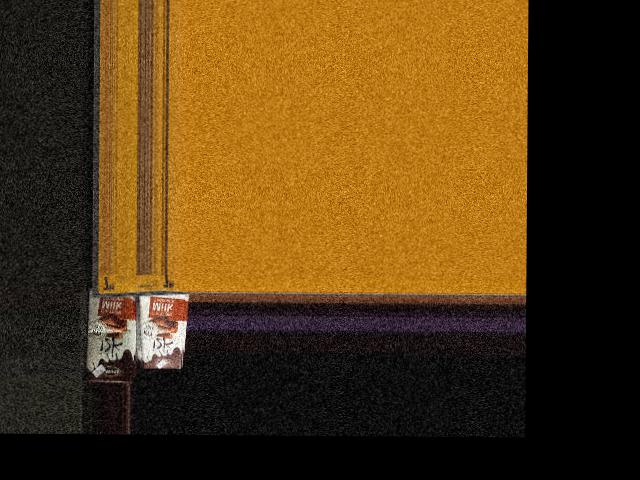chocolate: (139, 284, 193, 371)
